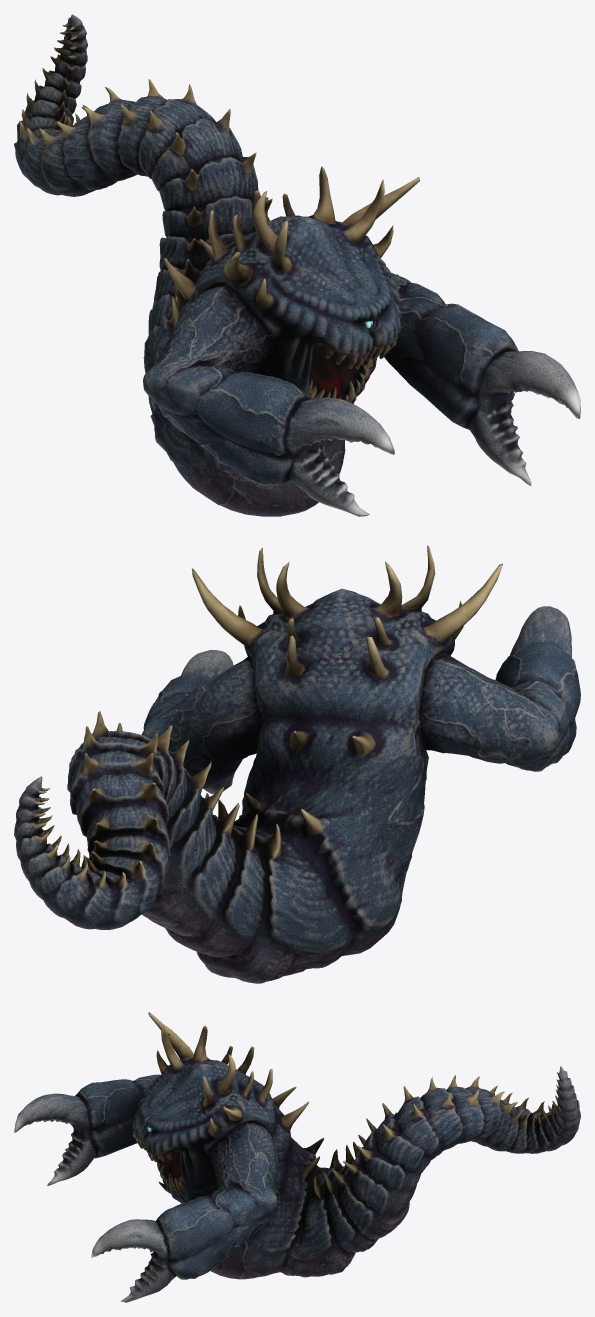
The model's file is MZ4250 - Astral Dreadnought.glb.
3 views of the same model, one above another, from view 1: azimuth 30°, elevation 25°; view 2: azimuth 150°, elevation 25°; view 3: azimuth 270°, elevation 25° (orthographic). The views are drawn at different scales.
Parts seen in each view (by area): view 1: Astral Dreadnought .001; view 2: Astral Dreadnought .001; view 3: Astral Dreadnought .001.
Boxes of the visible parts, x1,y1,x2,y2 form: Astral Dreadnought .001: [14, 14, 580, 516]; Astral Dreadnought .001: [14, 545, 580, 983]; Astral Dreadnought .001: [14, 1012, 580, 1302].
Bounding box in the file's own units: 3.74 × 3.2 × 7.01.
1 material, 1 textured.
